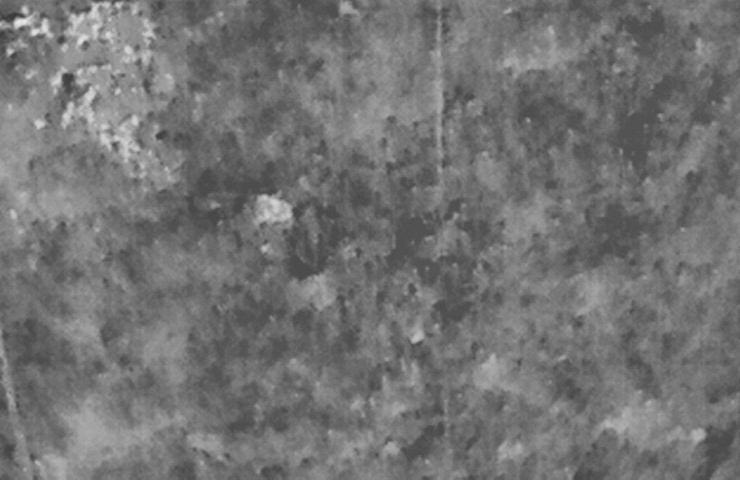landmines: (255, 190, 293, 229)
